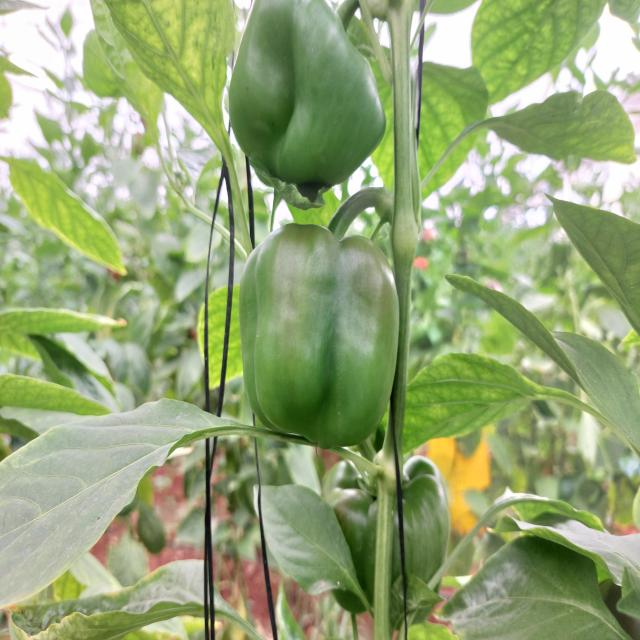Green--Not-ready-to-harvest: (239, 222, 403, 451), (224, 1, 388, 198), (311, 454, 449, 620)
